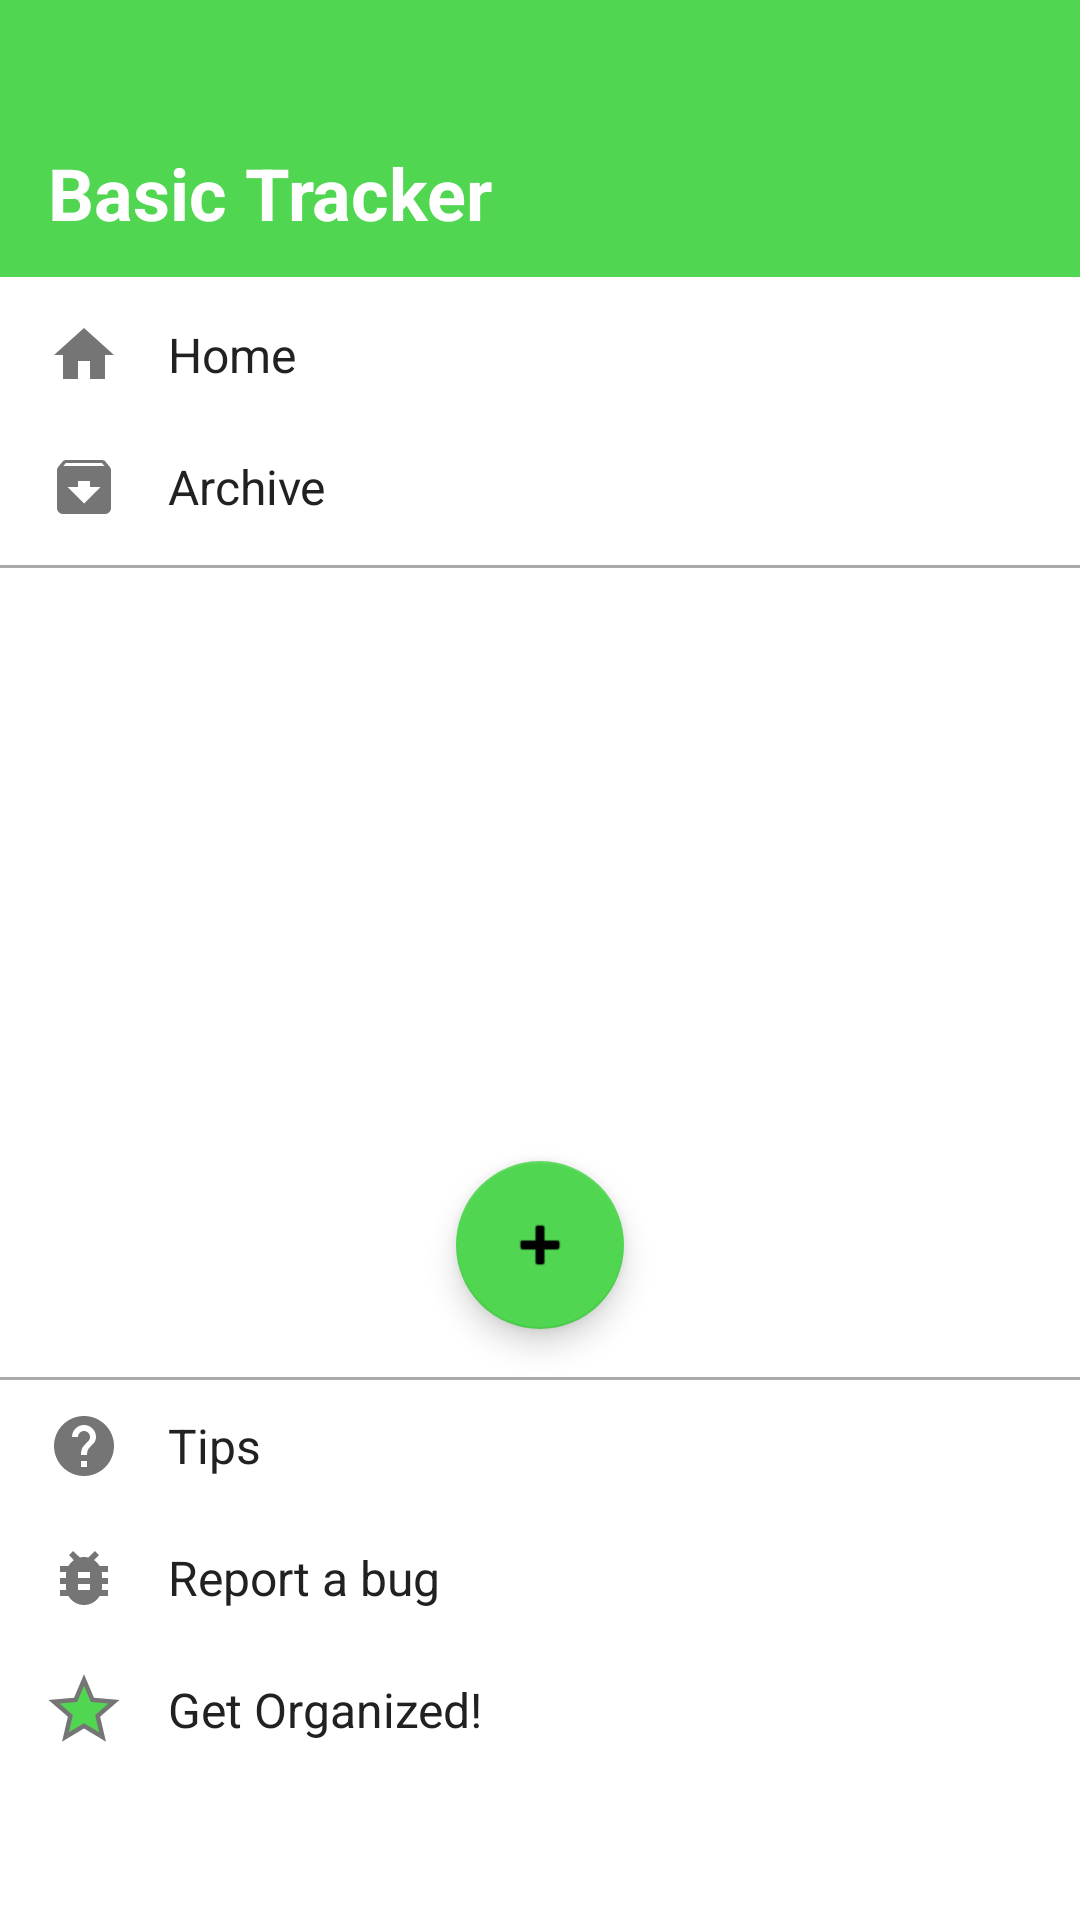

Screen size 1080px×1920px. Icon name, then its center in pixels as (x,y):
add: (540,1245)
star: (84,1708)
